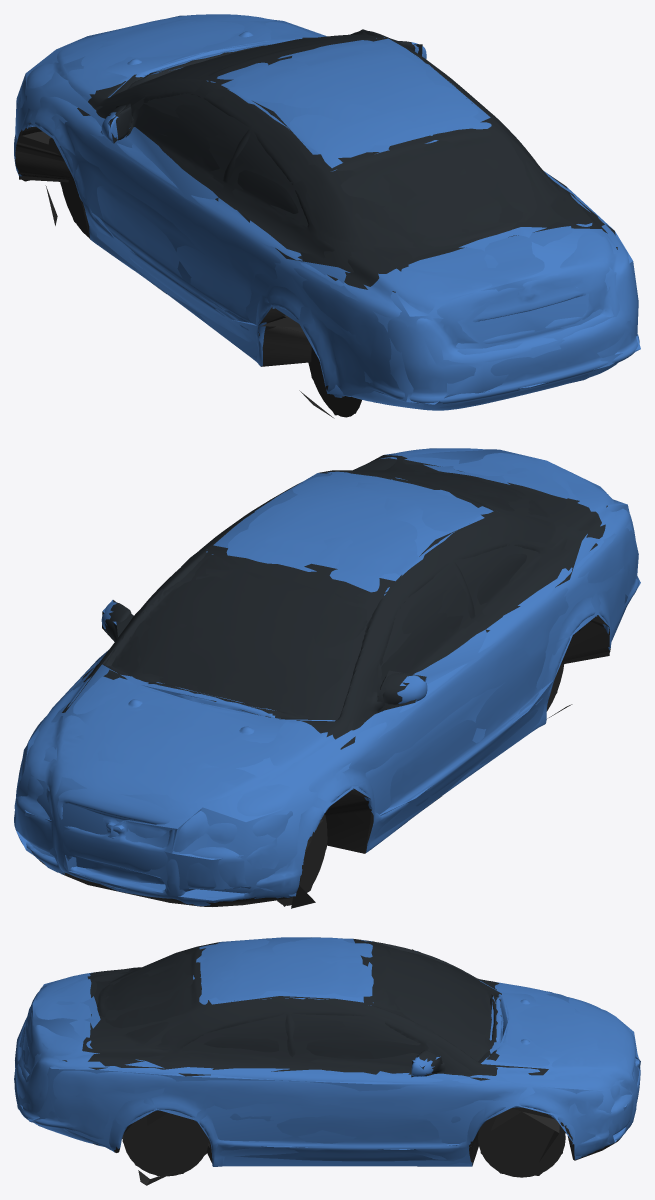
The model's file is volvo-c70.glb.
The picture shows the model from 3 angles, top to bottom: view 1: azimuth 30°, elevation 25°; view 2: azimuth 150°, elevation 25°; view 3: azimuth 270°, elevation 25°; orthographic projection. The views are drawn at different scales.
Visible parts, largest first — view 1: body, far; view 2: body, far; view 3: body, far.
Boxes of the visible parts, left/top/right/bottom form: body: left=14, top=14, right=639, bottom=418; far: left=15, top=15, right=640, bottom=415; body: left=14, top=448, right=638, bottom=906; far: left=14, top=448, right=640, bottom=908; body: left=14, top=937, right=640, bottom=1185; far: left=14, top=937, right=640, bottom=1178.
Size of the model in its own units: 2.03 by 1.48 by 4.69.
